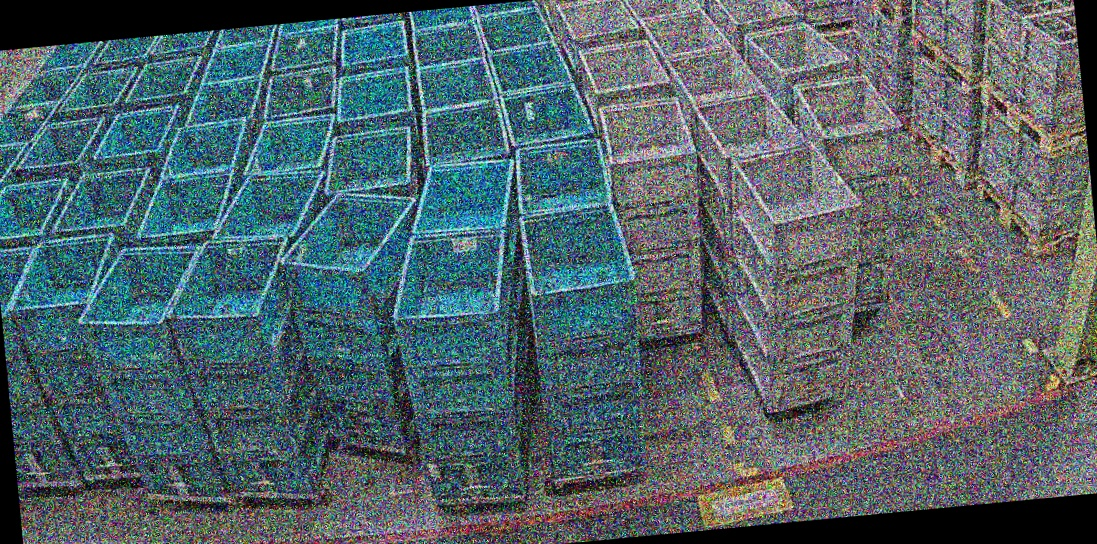4G: (714, 137, 880, 412), (789, 71, 920, 312), (597, 94, 714, 340)
B4: (157, 228, 336, 506), (272, 184, 442, 459), (384, 224, 538, 507), (70, 240, 228, 512), (517, 199, 656, 482), (5, 231, 151, 484)
